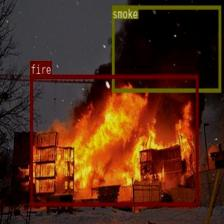fire: (30, 74, 198, 206)
smoke: (112, 5, 220, 92)
